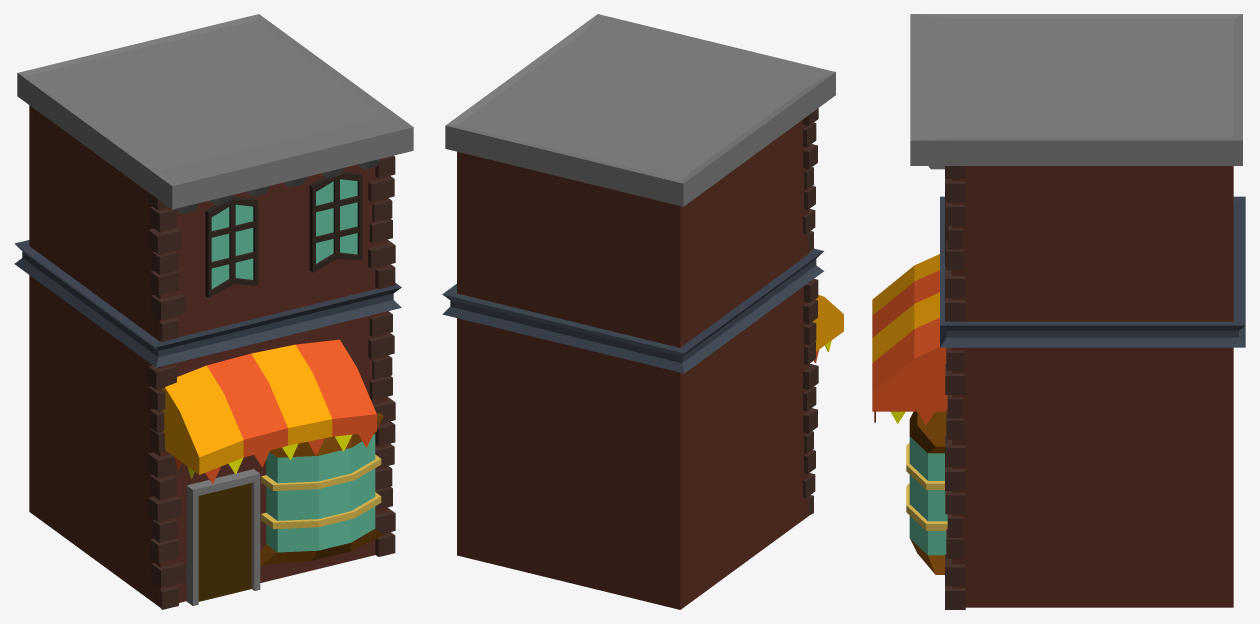
Rendered from PredioGenerico1MarromLOD0.fbx.
The picture shows the model from 3 angles, left to right: view 1: azimuth 30°, elevation 25°; view 2: azimuth 150°, elevation 25°; view 3: azimuth 270°, elevation 25°; orthographic projection. The views are drawn at different scales.
Visible parts, largest first — view 1: LojaGenerica1LOD0, Toldo, Janela; view 2: LojaGenerica1LOD0, Toldo; view 3: LojaGenerica1LOD0, Toldo, Janela.
Part boxes in pixels (x1=…): LojaGenerica1LOD0: x1=14, y1=14, x2=413, y2=609; Toldo: x1=162, y1=339, x2=376, y2=474; Janela: x1=260, y1=413, x2=383, y2=564; LojaGenerica1LOD0: x1=442, y1=14, x2=835, y2=609; Toldo: x1=812, y1=294, x2=843, y2=351; LojaGenerica1LOD0: x1=874, y1=14, x2=1245, y2=609; Toldo: x1=872, y1=254, x2=947, y2=411; Janela: x1=906, y1=411, x2=947, y2=574.
Bounding box in the file's own units: 411 × 699 × 502.
Materials: 1 (1 with a texture image).
